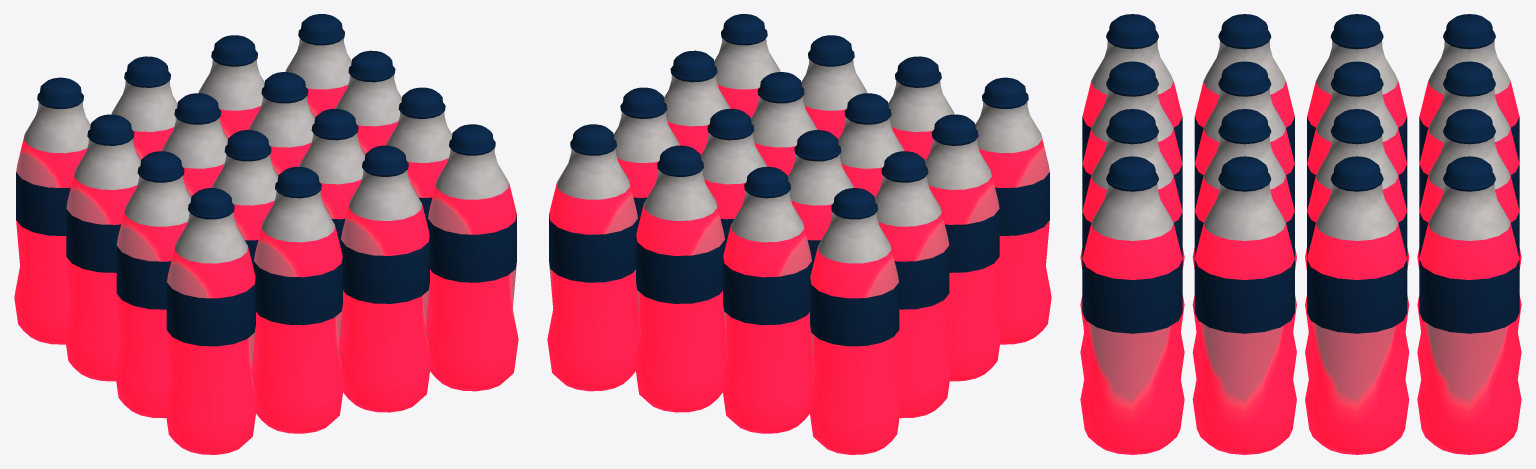
The model's file is Red_Coke.fbx.
3 renders of one model, left to right at view 1: azimuth 30°, elevation 25°; view 2: azimuth 150°, elevation 25°; view 3: azimuth 270°, elevation 25°, orthographic. The views are drawn at different scales.
Visible parts, largest first — view 1: RedCoke2; view 2: RedCoke2; view 3: RedCoke2.
Boxes of the visible parts, bbox=[...] form: RedCoke2: bbox=[14, 14, 518, 454]; RedCoke2: bbox=[547, 14, 1051, 454]; RedCoke2: bbox=[1080, 14, 1521, 454].
Bounding box in the file's own units: 39.28 × 27.21 × 39.28.
